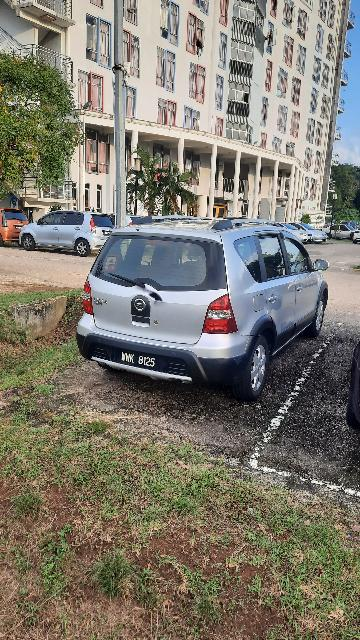License_Plate: (108, 342, 176, 380)
car: (73, 213, 331, 406)
